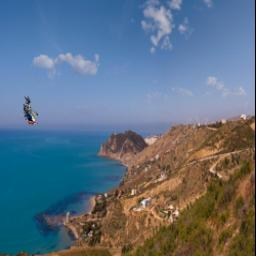Woodpecker: (24, 96, 40, 125)
